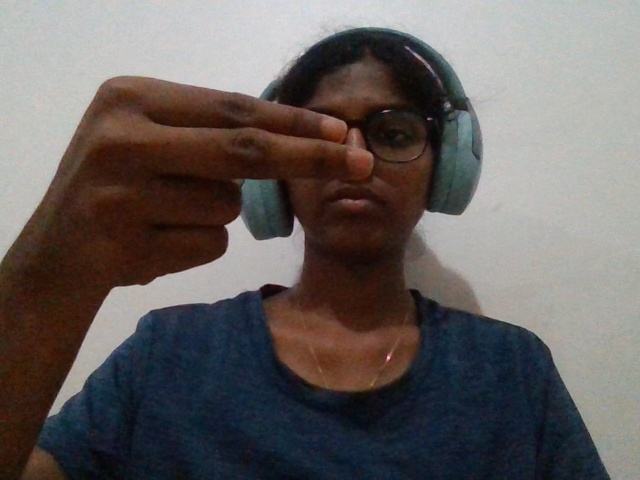H: (1, 33, 405, 349)
